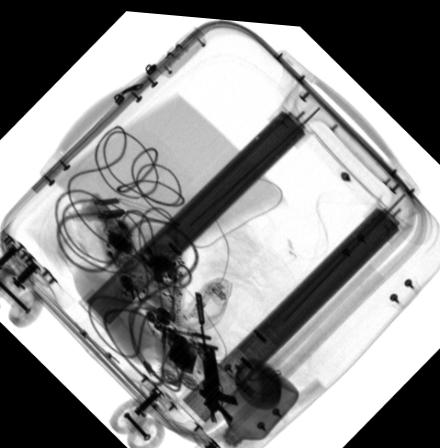Gun: (191, 286, 235, 419)
